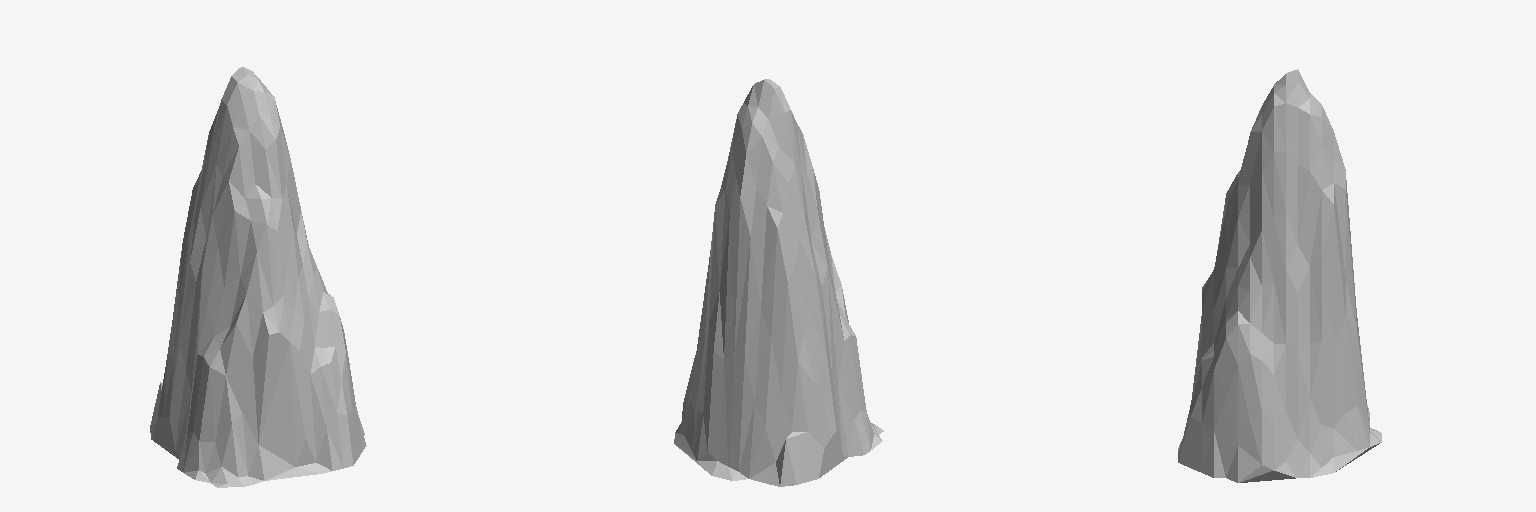
File: tree_72.obj
The picture shows the model from 3 angles: view 1: azimuth 30°, elevation 25°; view 2: azimuth 150°, elevation 25°; view 3: azimuth 270°, elevation 25°; orthographic projection.
Visible parts, largest first — view 1: tree_72_minus_dtm; view 2: tree_72_minus_dtm; view 3: tree_72_minus_dtm.
Boxes of the visible parts, <box> form: tree_72_minus_dtm: <box>150,67,366,487</box>; tree_72_minus_dtm: <box>674,79,883,486</box>; tree_72_minus_dtm: <box>1178,69,1381,482</box>.
Bounding box in the file's own units: 17 × 34.03 × 17.